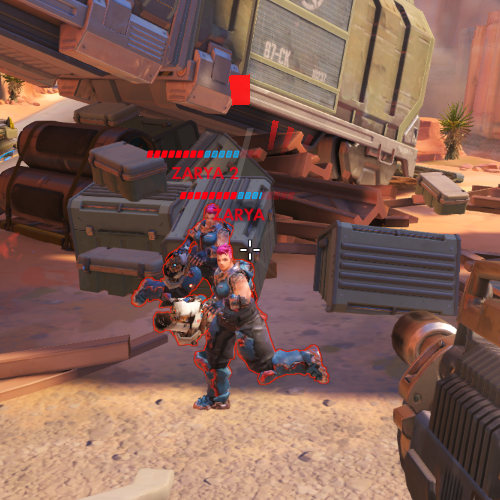hpbar: (146, 149, 262, 159), (179, 191, 296, 200)
